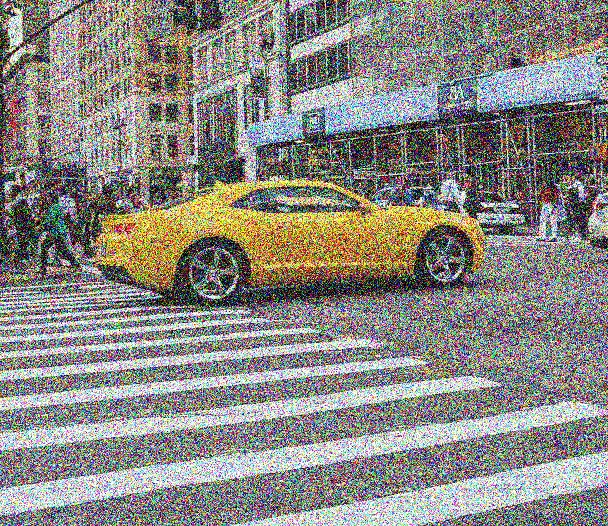car: (86, 173, 499, 311)
